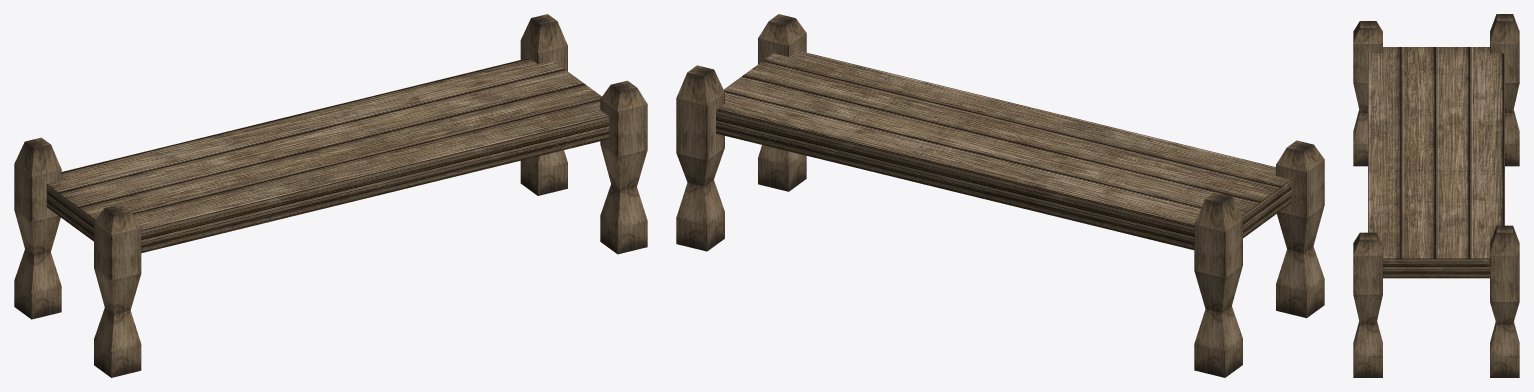
File: BENCH_YELLOW_01_KOZA.glb
3 renders of one model, left to right at view 1: azimuth 30°, elevation 25°; view 2: azimuth 150°, elevation 25°; view 3: azimuth 270°, elevation 25°, orthographic. The views are drawn at different scales.
Parts seen in each view (by area): view 1: BENCH_YELLOW_01_KOZA; view 2: BENCH_YELLOW_01_KOZA; view 3: BENCH_YELLOW_01_KOZA.
Part boxes in pixels (left/top/right/bottom): BENCH_YELLOW_01_KOZA: left=14, top=14, right=647, bottom=377; BENCH_YELLOW_01_KOZA: left=676, top=14, right=1324, bottom=377; BENCH_YELLOW_01_KOZA: left=1353, top=14, right=1519, bottom=377.
Size of the model in its own units: 2.35 by 0.697 by 0.7375.
Materials: 2 (2 with a texture image).
